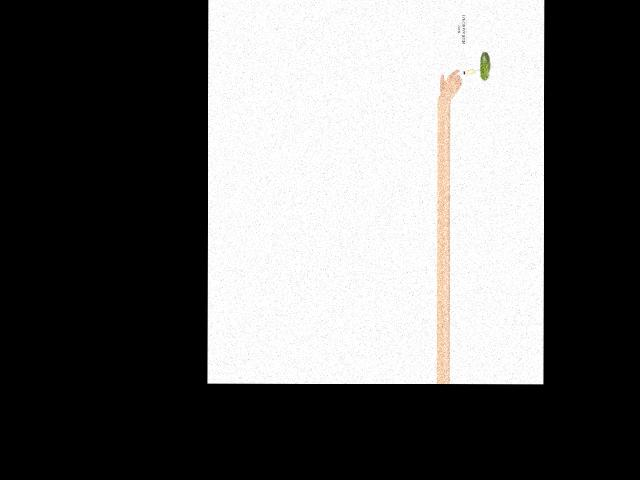cucumber: (480, 52, 489, 81)
